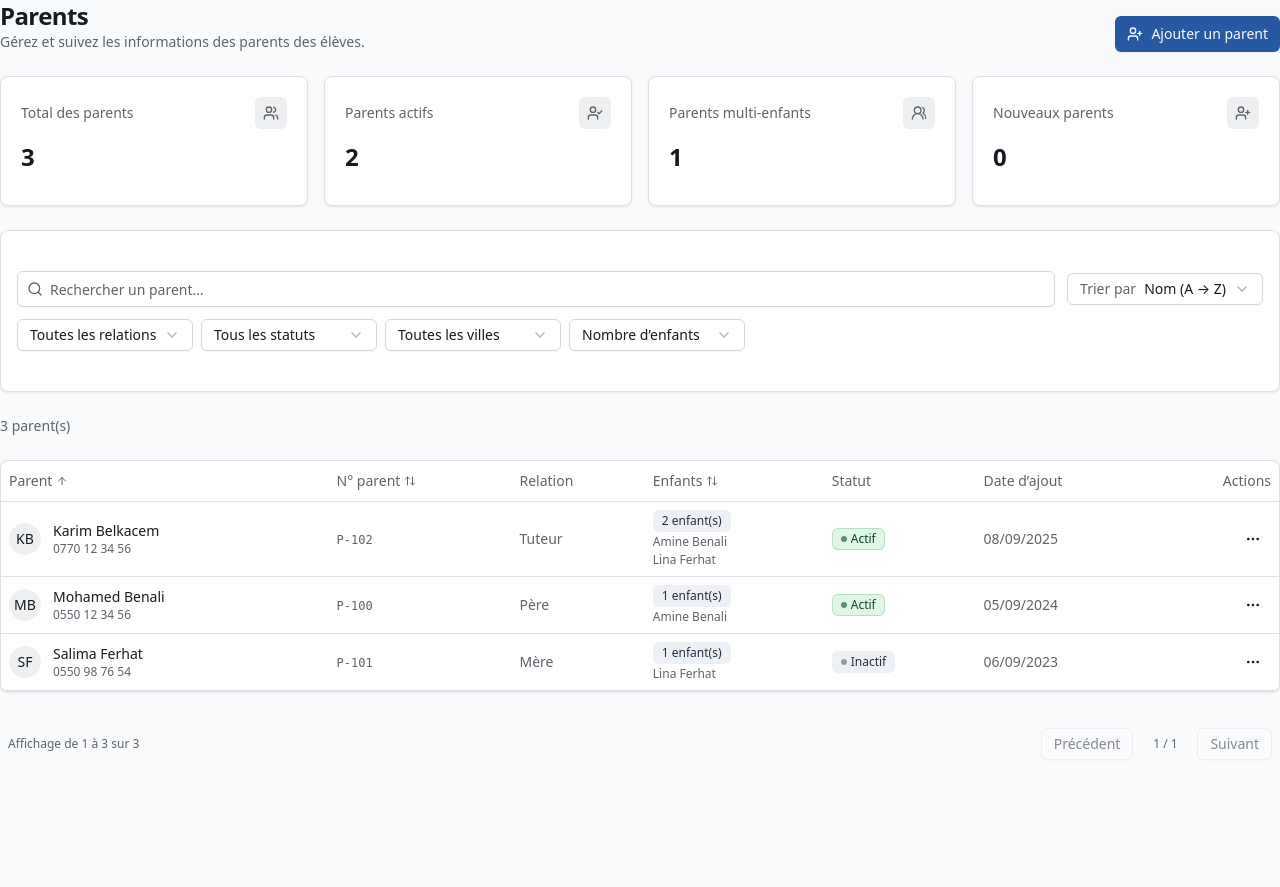
ParentsPage › edits a parent through the form sheet
Check: the link "Mohamed Benali" is shown, box [53,586,165,606]
Click the button named "Actions" in the row of "Mohamed Benali": click(1253, 604) [1235,586,1271,622]
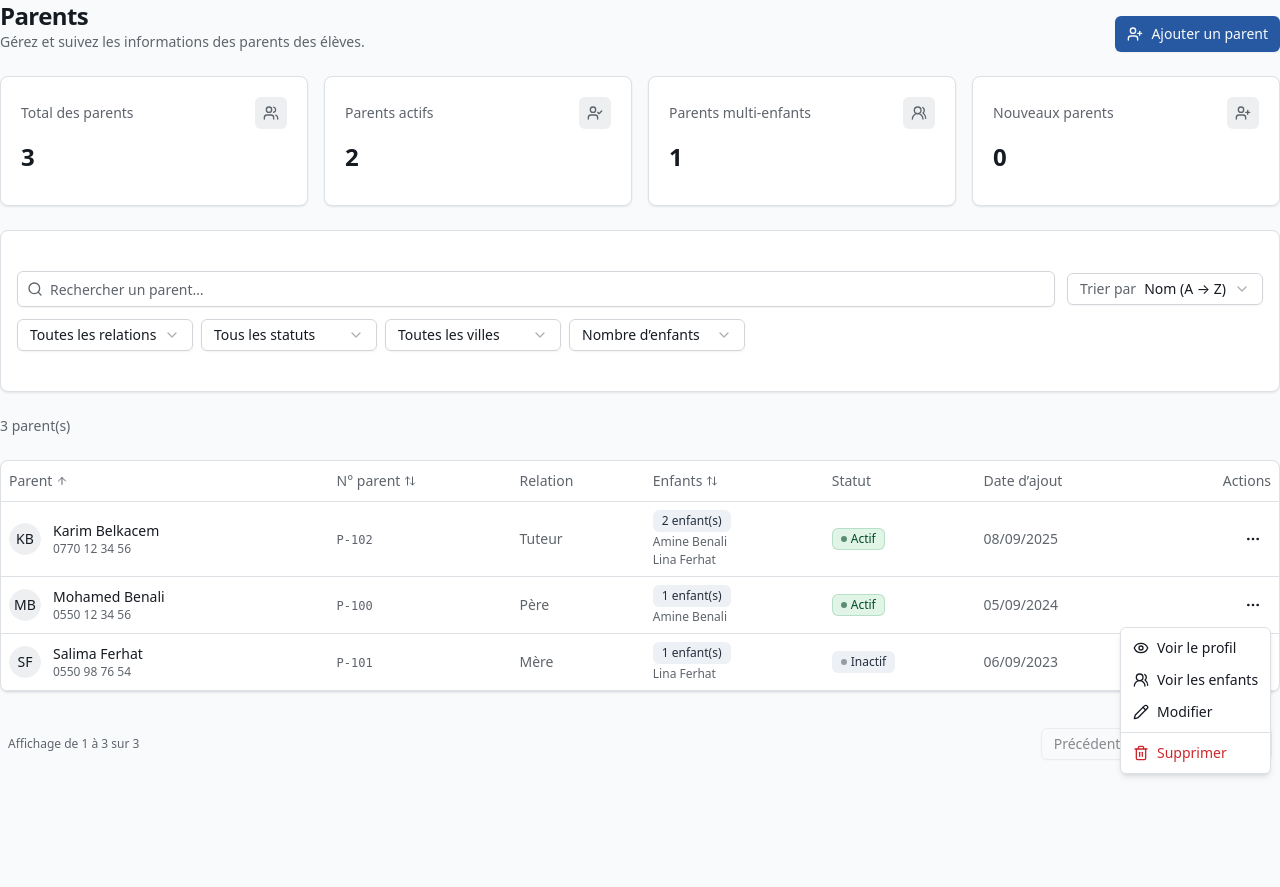
Click the menu item "Modifier": click(1173, 712) [1133,702,1212,721]
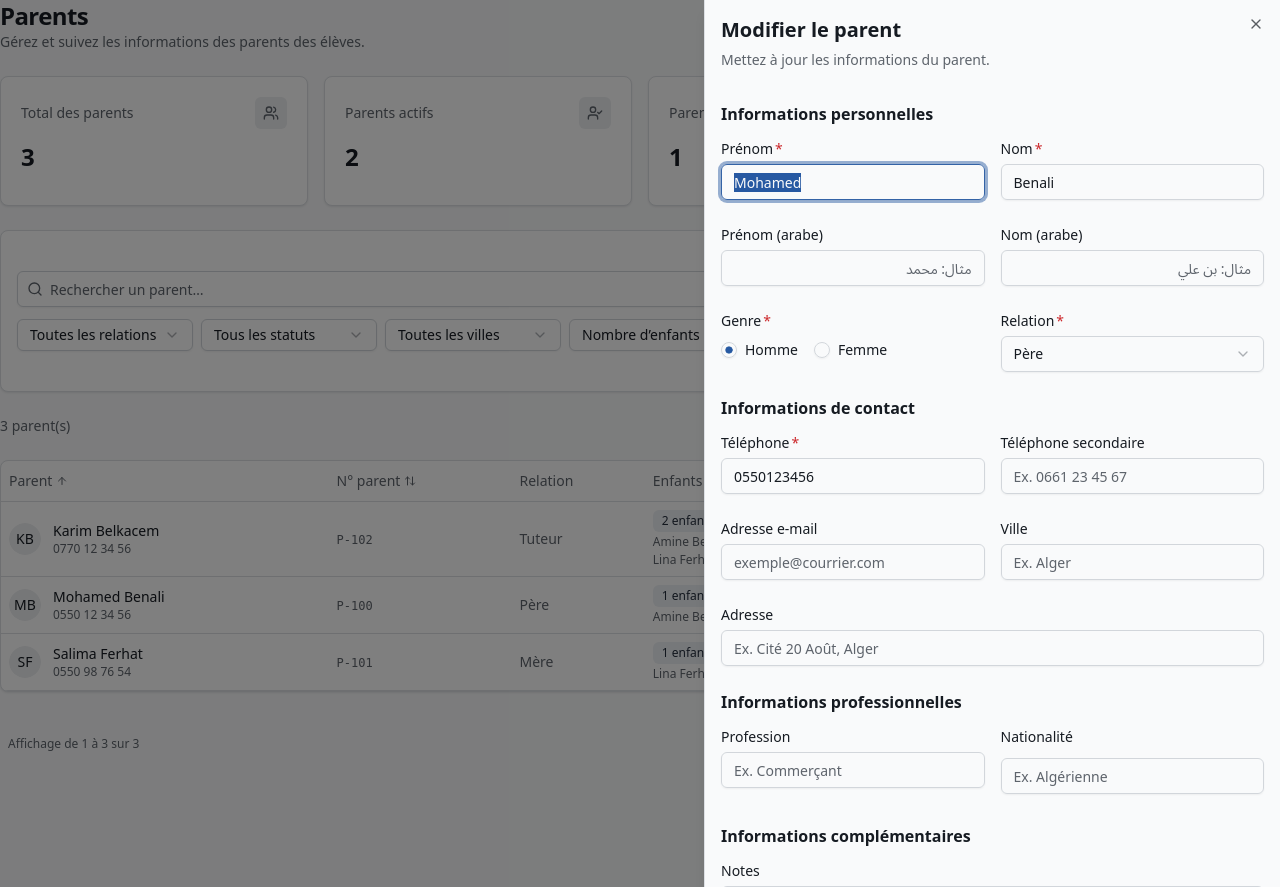
Check: the heading "Modifier le parent" is shown, box [721,16,901,43]
Check: the field labelled "Prénom*" holds "Mohamed"
Replace the text in the field labelled "Prénom*" with "Karim": (853, 182) [721,164,984,200]
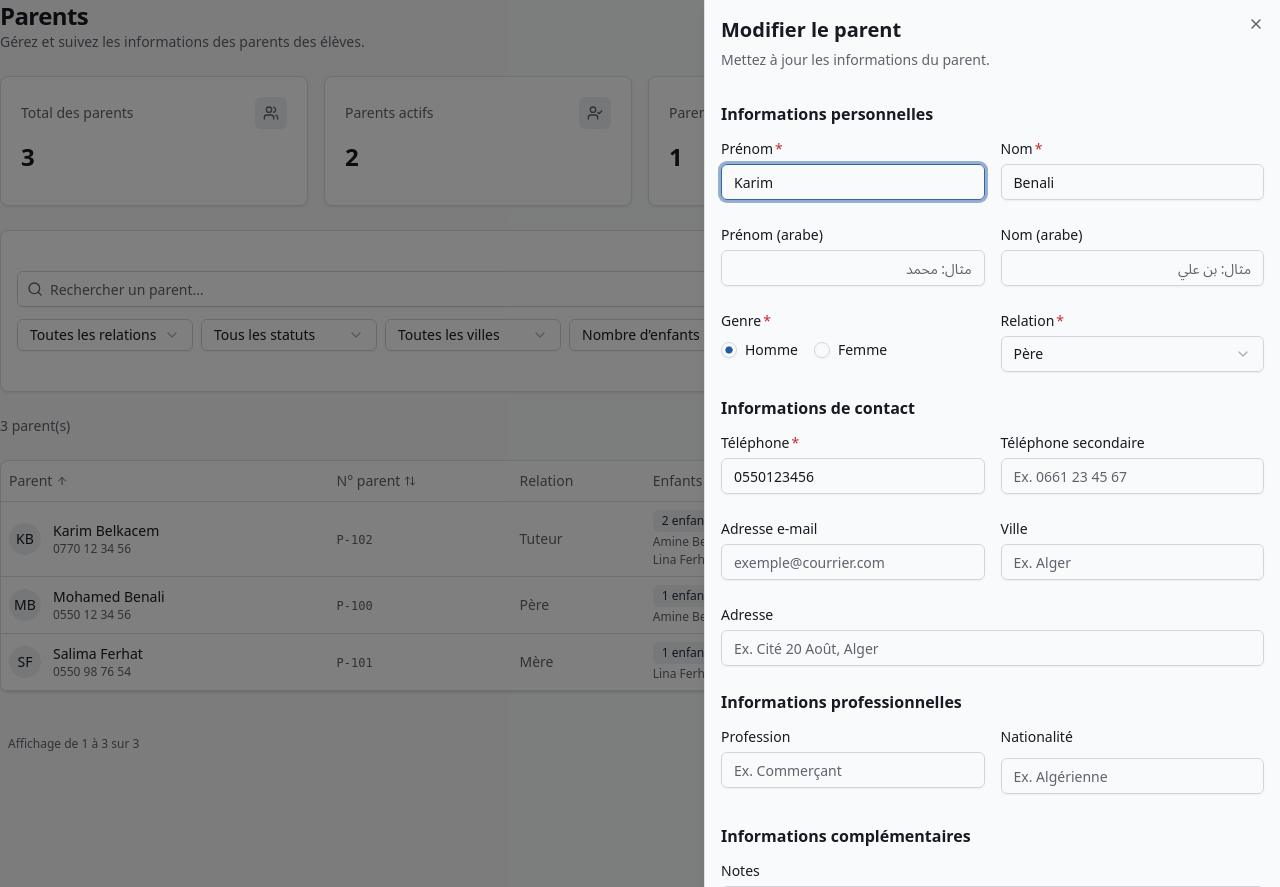
In the field with placeholder "Ex. Alger": (1132, 562) [1000,544,1264,580], type "Alger"
(page scrolled)
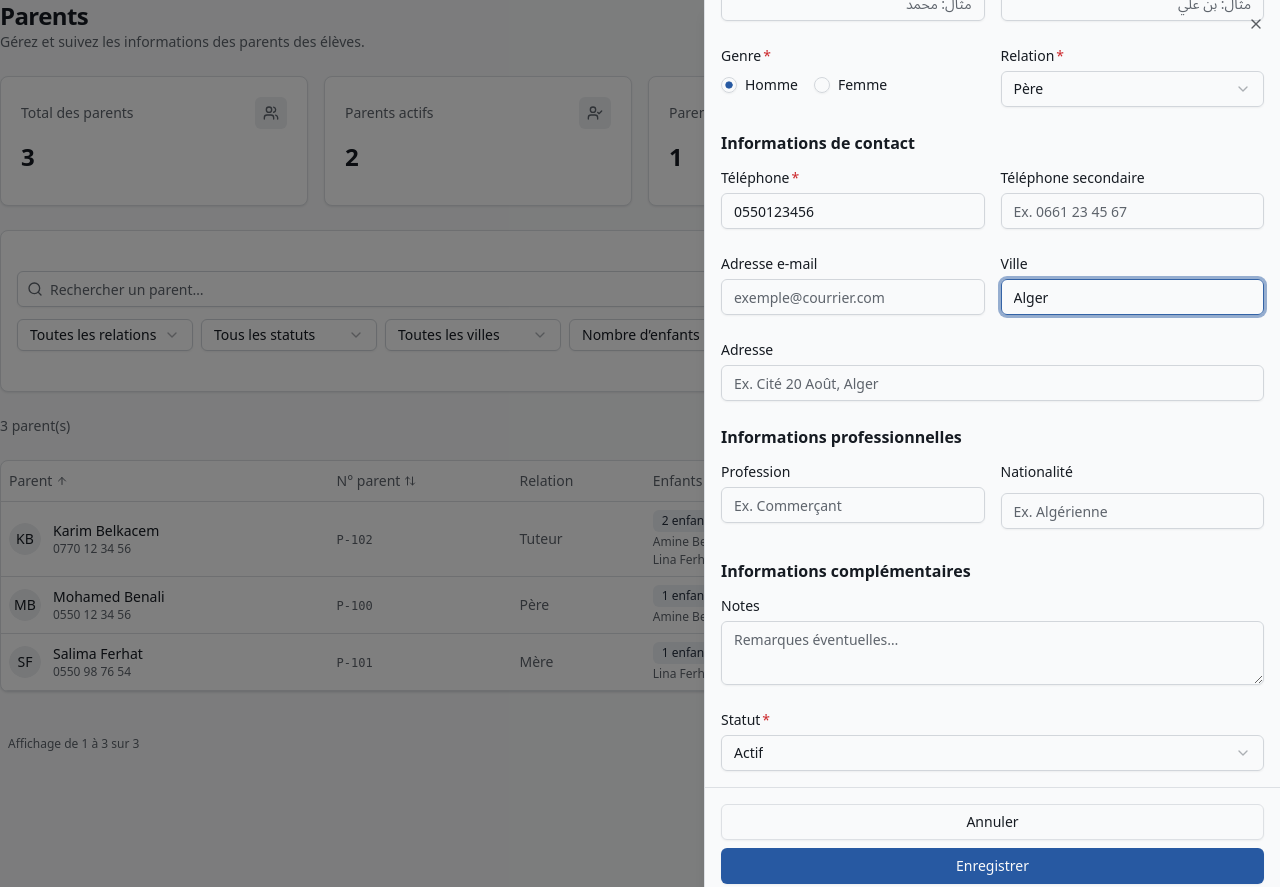
Click the button "Enregistrer": click(992, 866) [721,848,1264,884]
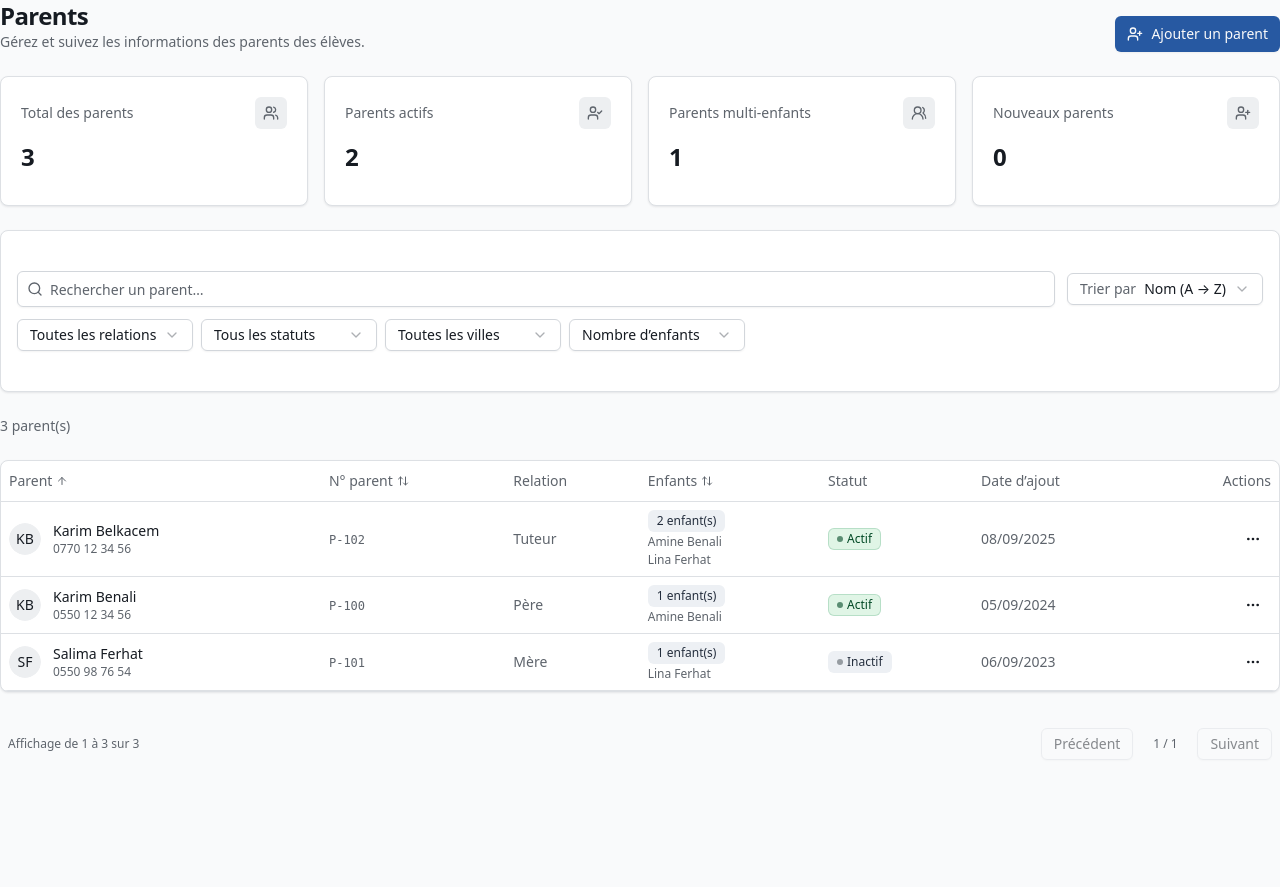
Check: the link "Karim Benali" is shown, box [53,586,136,606]
